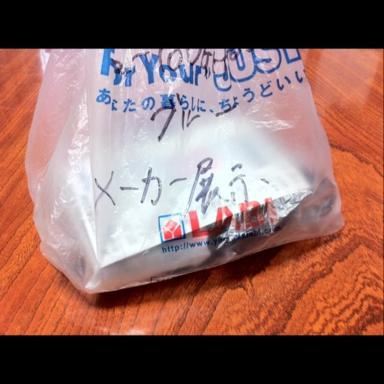plasticbag: (23, 48, 348, 294)
